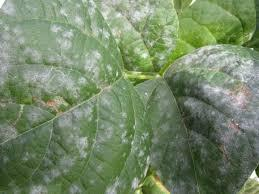embun tepung: (4, 0, 112, 188)
